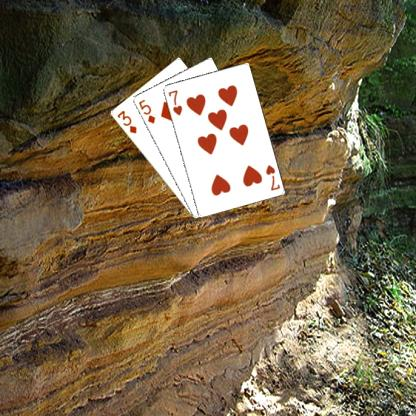3D: (114, 107, 138, 135)
5D: (136, 96, 156, 125)
7H: (262, 162, 280, 192), (166, 87, 183, 116)
